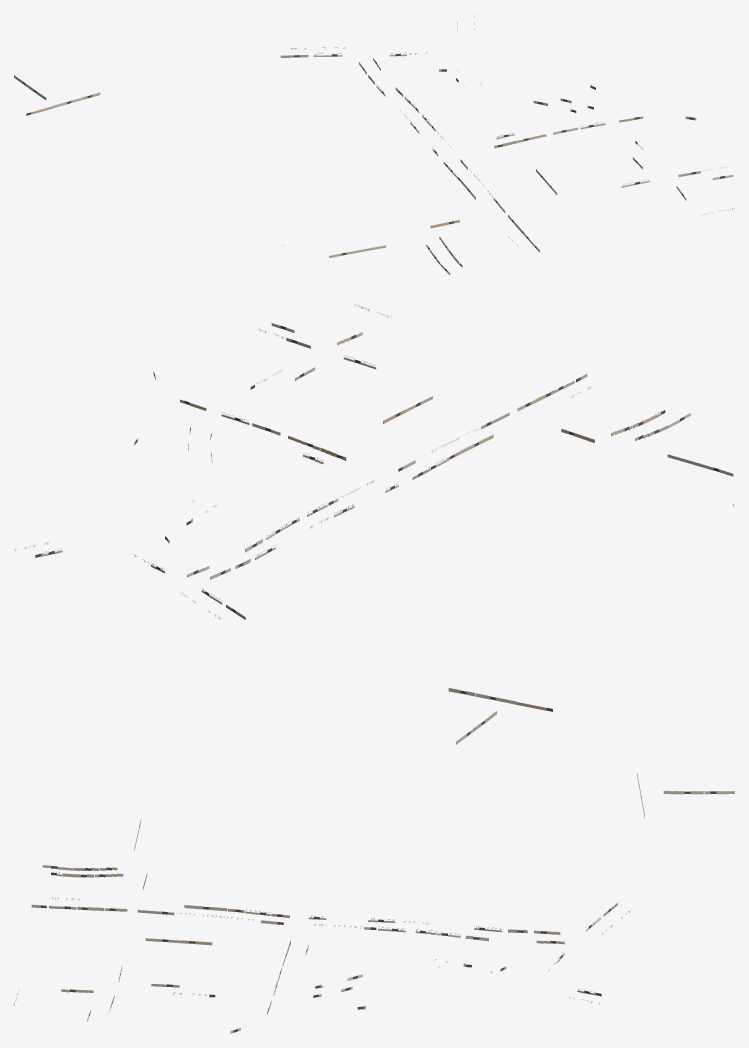
3 renders of one model, top to bottom at view 1: azimuth 30°, elevation 25°; view 2: azimuth 150°, elevation 25°; view 3: azimuth 270°, elevation 25°, orthographic. The views are drawn at different scales.
Parts seen in each view (by area): view 1: nd_st_m13_m5_lod0; view 2: nd_st_m13_m5_lod0; view 3: nd_st_m13_m5_lod0.
Part boxes in pixels (x1,y1,x2,y2): nd_st_m13_m5_lod0: (14,15,734,274); nd_st_m13_m5_lod0: (14,304,733,744); nd_st_m13_m5_lod0: (14,774,734,1033).
Size of what is drawn, in the model's own units: 359 by 11.8 by 408.
